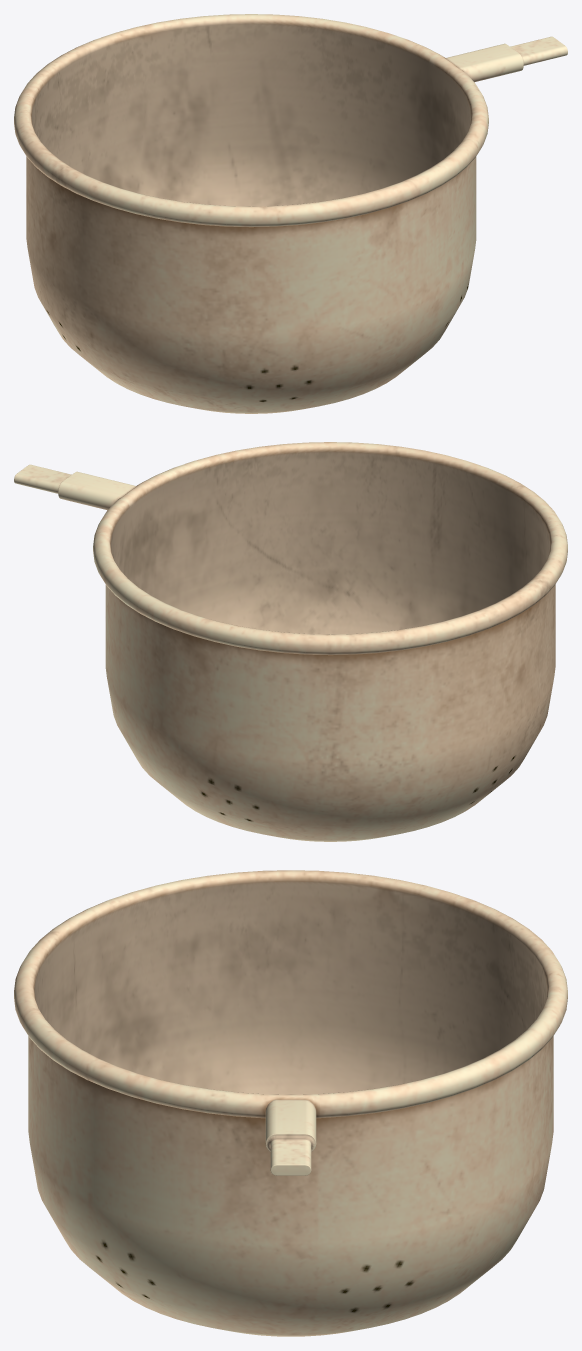
Rendered from SM_Teapot_Filter.fbx.
3 views of the same model, one above another, from view 1: azimuth 30°, elevation 25°; view 2: azimuth 150°, elevation 25°; view 3: azimuth 270°, elevation 25° (orthographic). The views are drawn at different scales.
Parts seen in each view (by area): view 1: SM_Teapot_Filter; view 2: SM_Teapot_Filter; view 3: SM_Teapot_Filter.
Boxes of the visible parts, <box> form: SM_Teapot_Filter: <box>14,14,567,413</box>; SM_Teapot_Filter: <box>14,442,567,841</box>; SM_Teapot_Filter: <box>14,870,567,1336</box>.
Size of the model in its own units: 7.01 by 3.32 by 5.61.
1 material, 1 textured.
